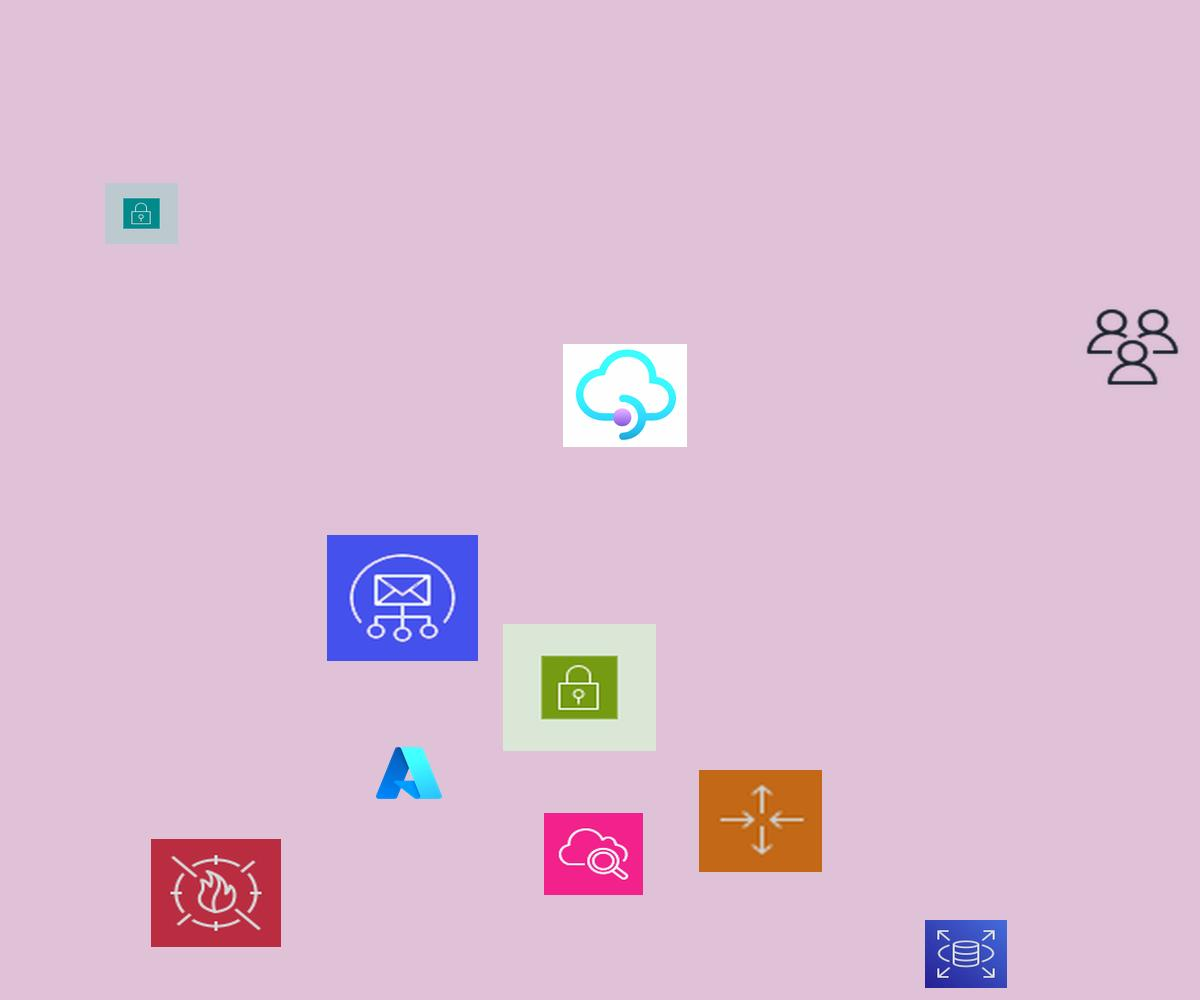AWS-CloudWatch: (544, 813, 643, 895)
AWS-Private-subnet: (105, 183, 178, 244)
AWS-Public-subnet: (503, 624, 656, 751)
AWS-RDS: (925, 920, 1007, 988)
AWS-Res_Users: (1083, 306, 1182, 388)
AWS-Scaling-group: (699, 770, 822, 872)
AWS-Simple-Email-Service: (327, 535, 478, 661)
AWS-WAF: (151, 839, 281, 947)
Azure_api_gateway: (563, 344, 687, 447)
Azure_services: (373, 743, 445, 803)
